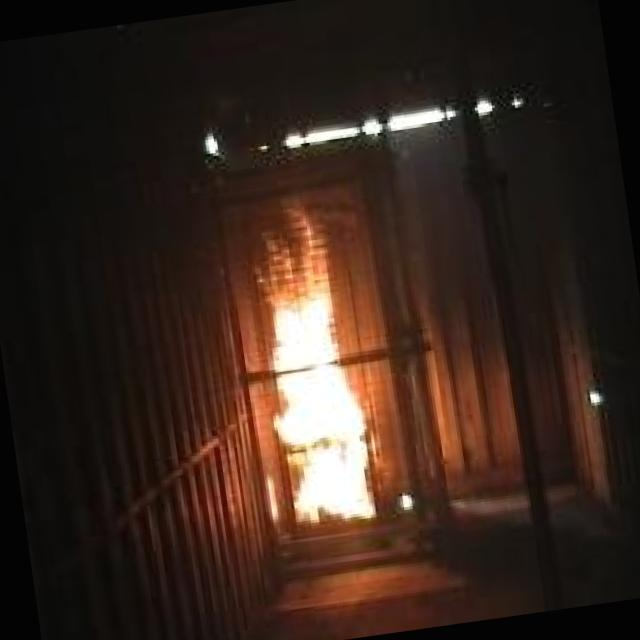fire: (256, 229, 396, 540)
